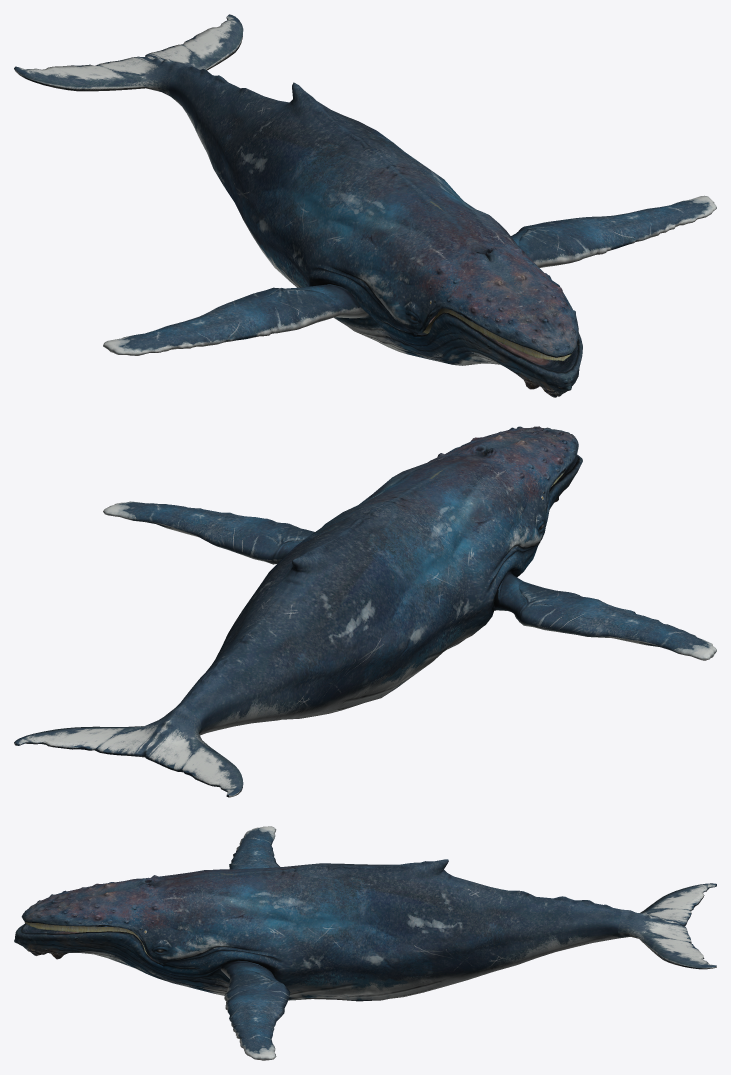
File: ballena.FBX
3 views of the same model, one above another, from view 1: azimuth 30°, elevation 25°; view 2: azimuth 150°, elevation 25°; view 3: azimuth 270°, elevation 25° (orthographic). The views are drawn at different scales.
Visible parts, largest first — view 1: default; view 2: default; view 3: default.
Part boxes in pixels (left/top/right/bottom): default: left=14, top=14, right=716, bottom=397; default: left=14, top=426, right=716, bottom=797; default: left=14, top=826, right=716, bottom=1060.
Bounding box in the file's own units: 1563 × 428 × 2001.
1 material, 1 textured.
